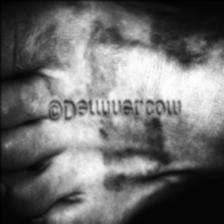Unclassified: (42, 18, 218, 88), (95, 119, 171, 190)
